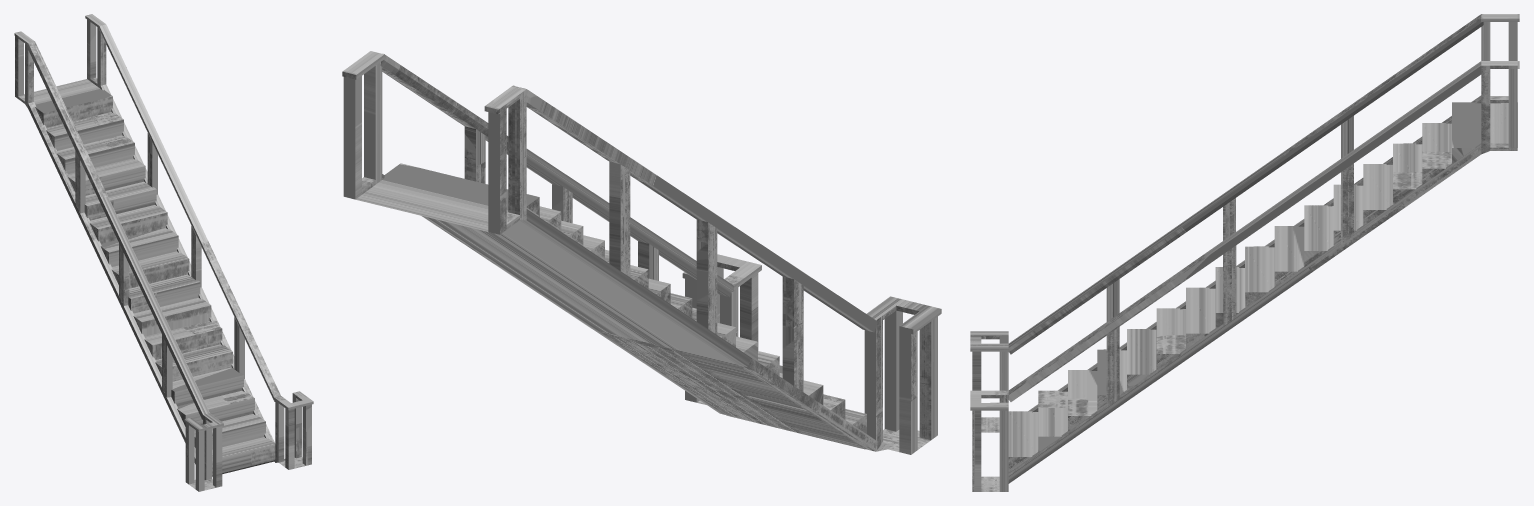
Rendered from Stairway_1.fbx.
3 views of the same model, side by side, from view 1: azimuth 30°, elevation 25°; view 2: azimuth 150°, elevation 25°; view 3: azimuth 270°, elevation 25° (orthographic). The views are drawn at different scales.
Visible parts, largest first — view 1: Stairway_1_1, Stairway_1_002, Stairway_1_001; view 2: Stairway_1_002, Stairway_1_1, Stairway_1_001; view 3: Stairway_1_1, Stairway_1_001, Stairway_1_002.
Part boxes in pixels (box(x1,y1,x2,y2)): Stairway_1_1: box(24, 79, 275, 476); Stairway_1_002: box(14, 31, 223, 491); Stairway_1_001: box(85, 14, 313, 469); Stairway_1_002: box(484, 85, 941, 454); Stairway_1_1: box(355, 163, 866, 449); Stairway_1_001: box(342, 51, 761, 414); Stairway_1_1: box(1008, 102, 1517, 472); Stairway_1_001: box(970, 61, 1519, 491); Stairway_1_002: box(970, 14, 1519, 432).
Bounding box in the file's own units: 4.07 × 10.44 × 12.41.
Materials: 1 (1 with a texture image).
